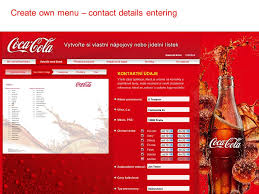coke: (202, 45, 255, 194)
